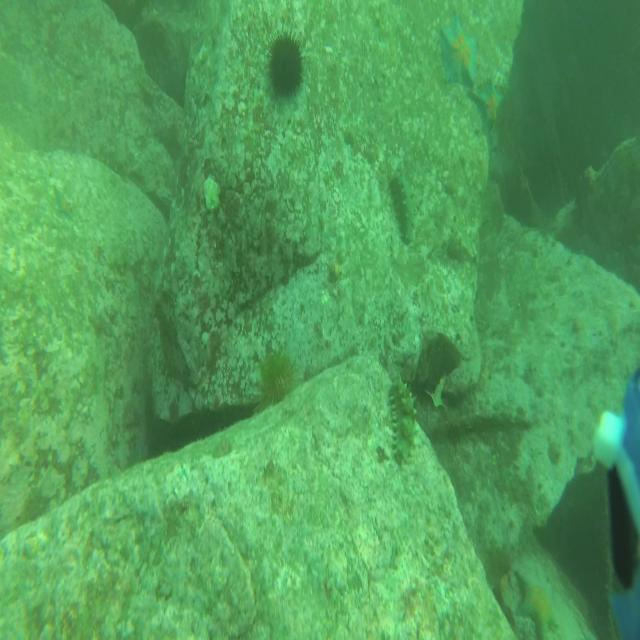echinus: (260, 21, 308, 106), (249, 347, 301, 416)
holothurian: (386, 371, 418, 471), (387, 166, 420, 248)
starfish: (512, 563, 561, 639), (438, 15, 477, 90), (470, 75, 505, 131), (53, 184, 73, 218)
